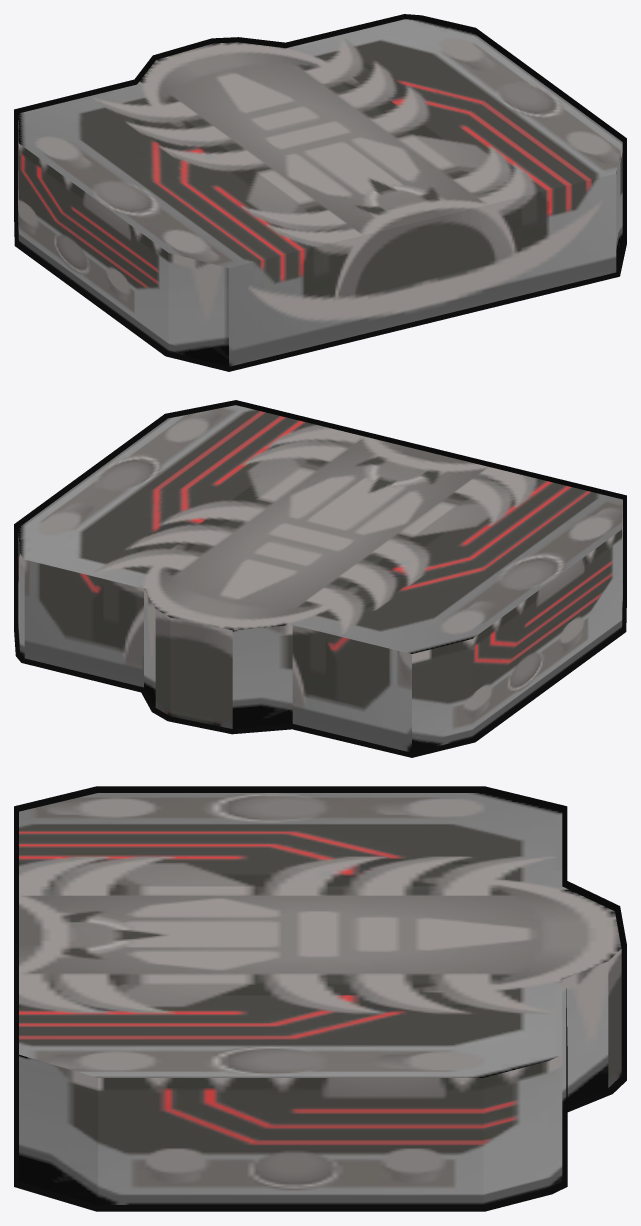
The model's file is Building_SubcoreRipscanner_Things_Building_Production_SubcoreRipscanner.glb.
3 renders of one model, top to bottom at view 1: azimuth 30°, elevation 25°; view 2: azimuth 150°, elevation 25°; view 3: azimuth 270°, elevation 25°, orthographic. The views are drawn at different scales.
Visible parts, largest first — view 1: Body, Outline; view 2: Body, Outline; view 3: Body, Outline.
Boxes of the visible parts, x1,y1,x2,y2 form: Body: (18,19,622,366); Outline: (14,14,626,371); Body: (18,405,622,752); Outline: (14,400,626,757); Body: (19,793,621,1204); Outline: (14,786,626,1211).
Bounding box in the file's own units: 1.45 × 0.3223 × 1.3.
Materials: 2 (1 with a texture image).
